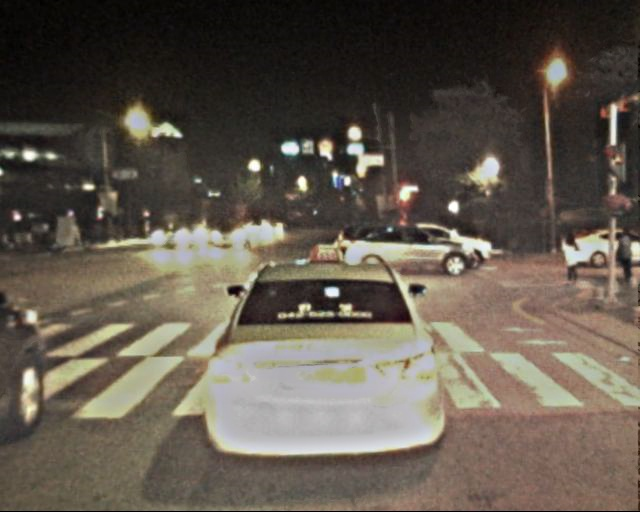person: (561, 228, 587, 288), (617, 228, 639, 286)
